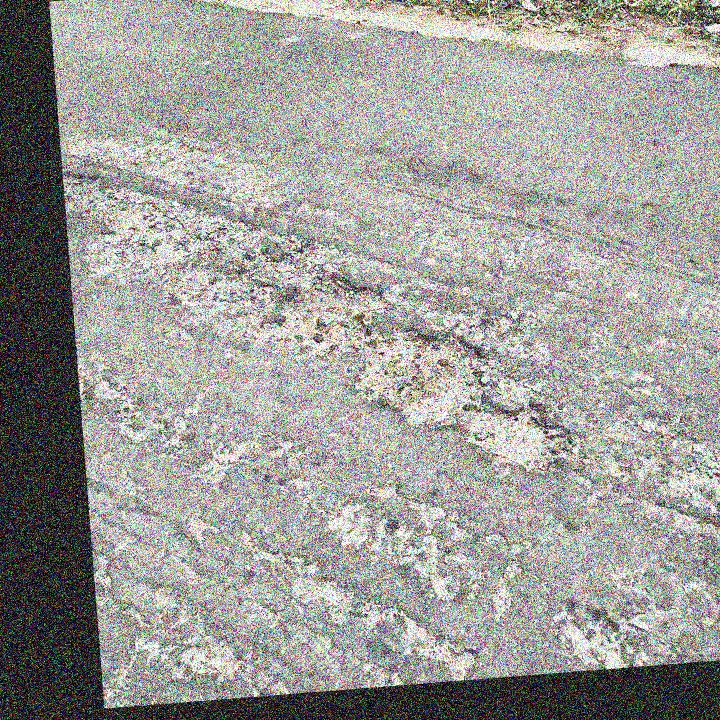pothole: (62, 155, 205, 274), (347, 321, 493, 435), (269, 264, 389, 358), (466, 399, 572, 484)
